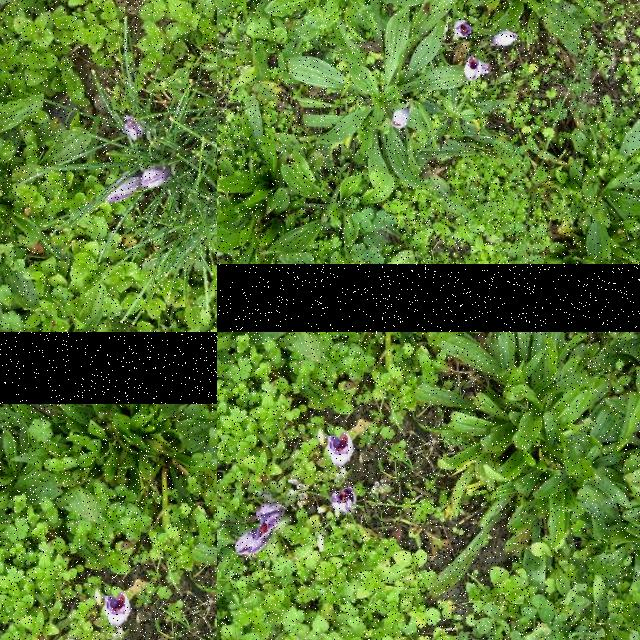flower: (104, 592, 130, 626), (327, 432, 353, 466), (106, 178, 142, 202), (142, 168, 172, 190), (123, 116, 147, 142), (330, 488, 354, 514), (463, 56, 482, 82), (490, 31, 518, 47), (392, 107, 411, 129), (454, 19, 472, 39)
overlap: (236, 504, 284, 554)
